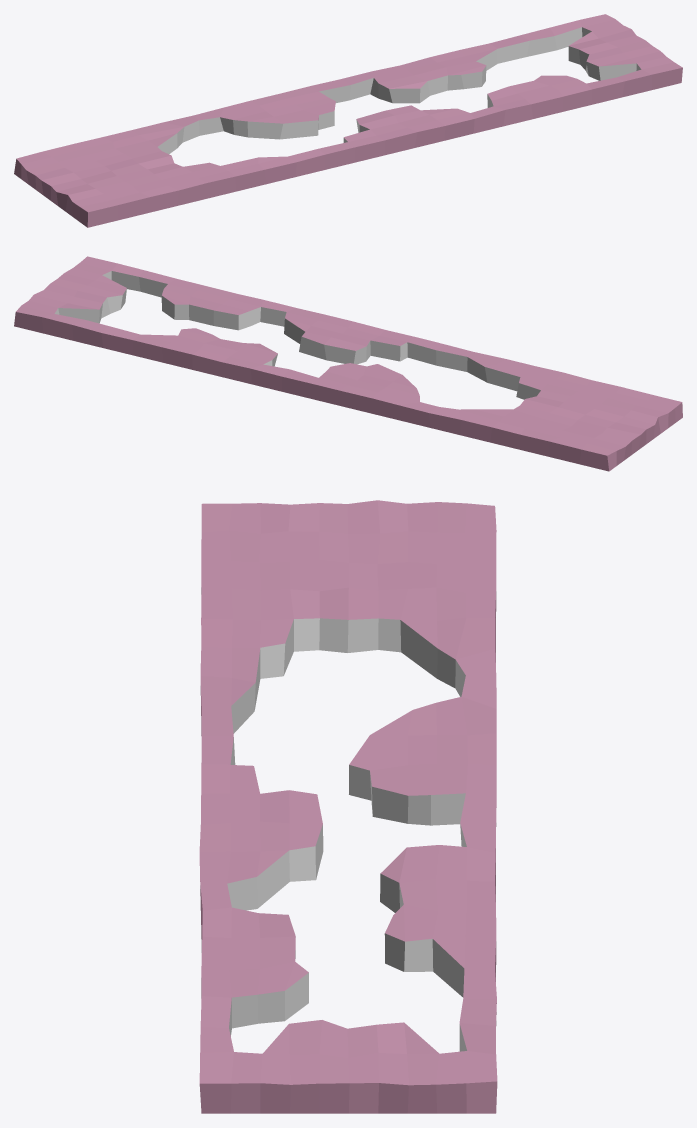
The model's file is PeknietaPodloga.fbx.
The picture shows the model from 3 angles, top to bottom: view 1: azimuth 30°, elevation 25°; view 2: azimuth 150°, elevation 25°; view 3: azimuth 270°, elevation 25°; orthographic projection. The views are drawn at different scales.
Visible parts, largest first — view 1: Plane.002; view 2: Plane.002; view 3: Plane.002.
Boxes of the visible parts, bbox=[...] form: Plane.002: bbox=[14, 14, 682, 227]; Plane.002: bbox=[14, 256, 682, 471]; Plane.002: bbox=[199, 500, 497, 1113].
Size of the model in its own units: 1576 by 40.4 by 340.
